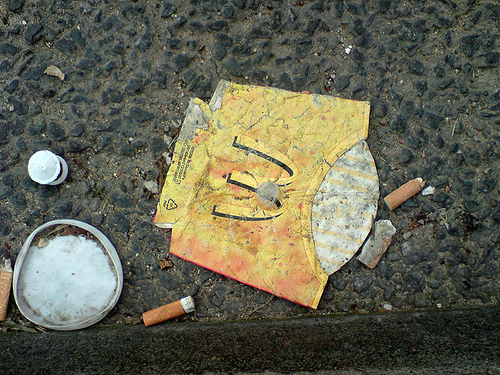litter: (157, 78, 377, 308), (13, 219, 124, 331), (359, 219, 397, 269), (141, 296, 196, 327), (26, 149, 69, 186), (383, 177, 425, 210)
